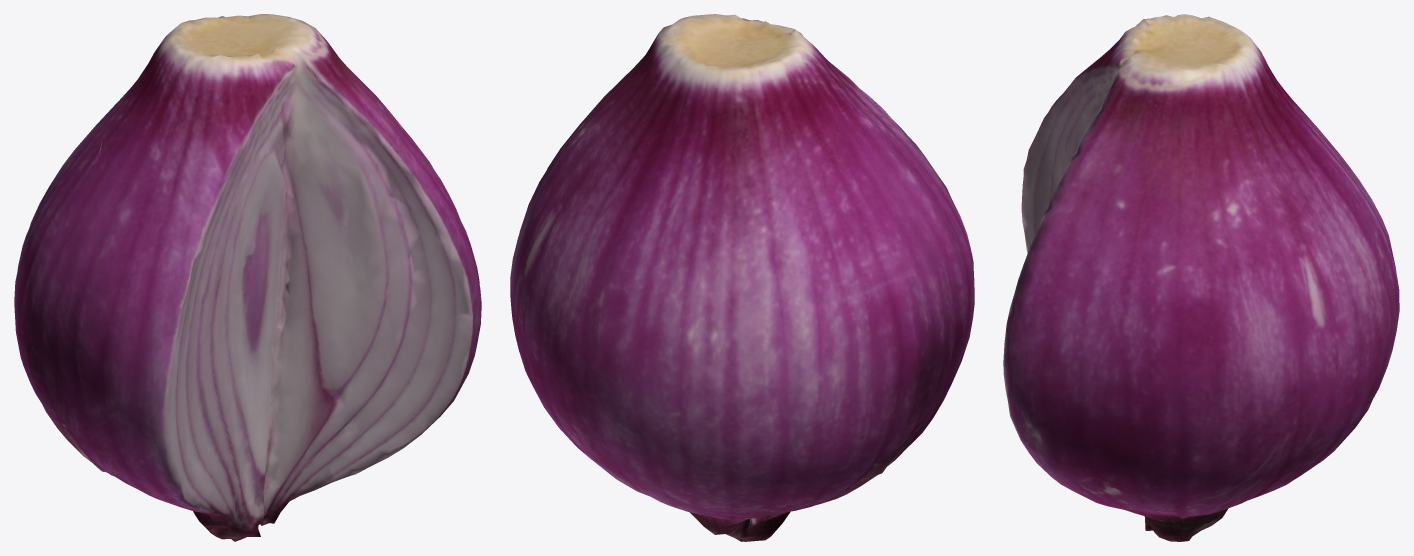
Rendered from onion.obj.
The picture shows the model from 3 angles, left to right: view 1: azimuth 30°, elevation 25°; view 2: azimuth 150°, elevation 25°; view 3: azimuth 270°, elevation 25°; orthographic projection.
Parts seen in each view (by area): view 1: sm_food_produce_onion_d01_mesh_00.001; view 2: sm_food_produce_onion_d01_mesh_00.001; view 3: sm_food_produce_onion_d01_mesh_00.001.
Boxes of the visible parts, left/top/right/bottom form: sm_food_produce_onion_d01_mesh_00.001: left=14, top=14, right=481, bottom=541; sm_food_produce_onion_d01_mesh_00.001: left=510, top=14, right=974, bottom=541; sm_food_produce_onion_d01_mesh_00.001: left=1003, top=14, right=1399, bottom=541.
Size of the model in its own units: 0.0715 by 0.0858 by 0.0614.
1 material, 1 textured.
